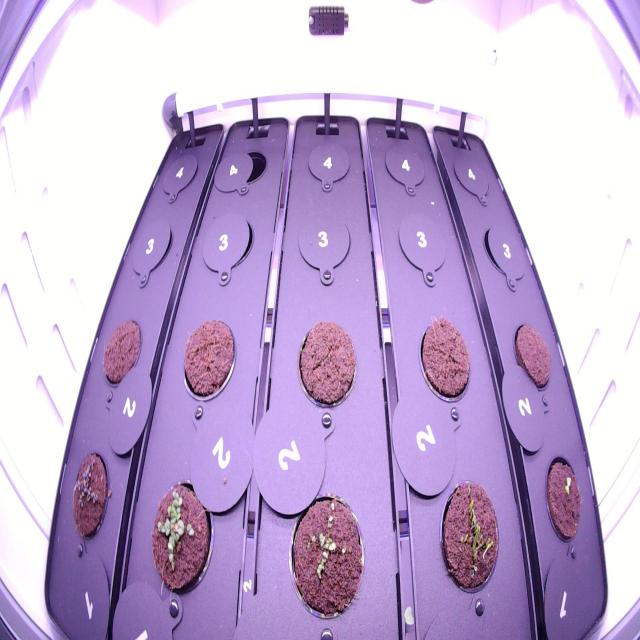empty_pod: (390, 205, 454, 285), (292, 204, 355, 283), (197, 206, 255, 289), (474, 216, 533, 294), (296, 126, 358, 196), (376, 133, 435, 204), (123, 212, 176, 288), (153, 133, 206, 203), (218, 128, 274, 194), (445, 144, 496, 209)
germination: (279, 487, 372, 631), (434, 462, 504, 611), (141, 471, 217, 604), (538, 442, 589, 557), (64, 442, 116, 551)
pod: (291, 314, 362, 418), (173, 313, 242, 412), (412, 308, 476, 412), (93, 311, 148, 398), (507, 315, 558, 396)
